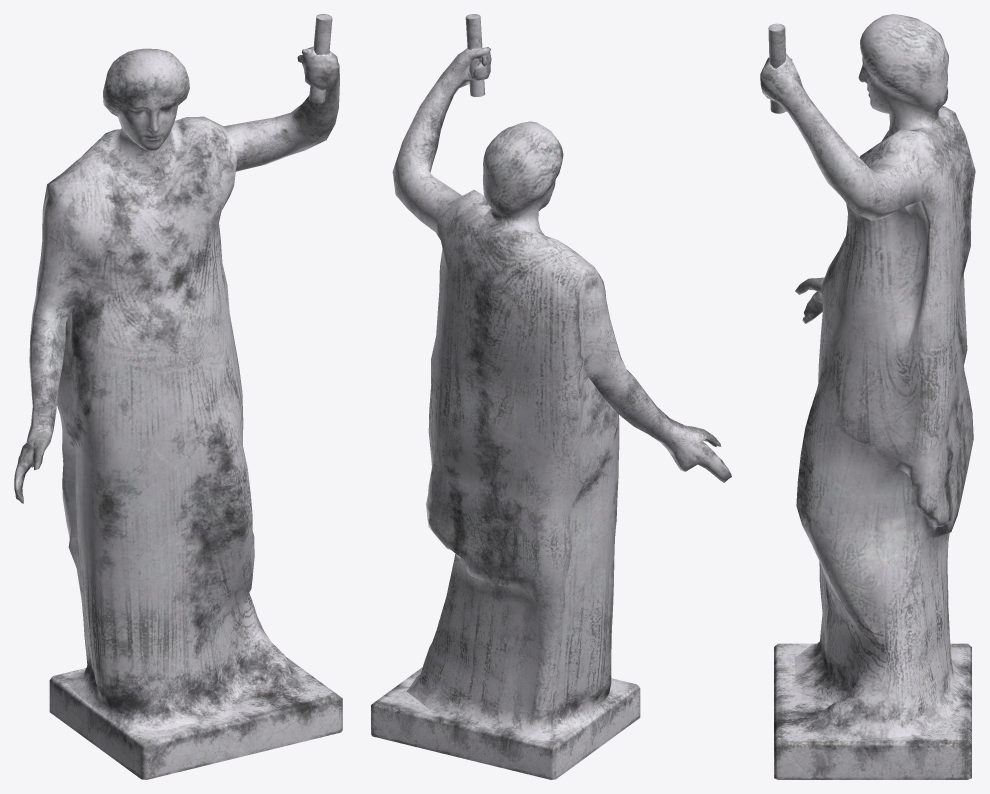
File: statue_of_demetra.glb
3 views of the same model, side by side, from view 1: azimuth 30°, elevation 25°; view 2: azimuth 150°, elevation 25°; view 3: azimuth 270°, elevation 25° (orthographic). The views are drawn at different scales.
Visible parts, largest first — view 1: Object_2; view 2: Object_2; view 3: Object_2.
Part boxes in pixels (<box>): Object_2: <box>14,14,342,779</box>; Object_2: <box>371,14,731,779</box>; Object_2: <box>760,14,975,779</box>.
Size of the model in its own units: 64.13 by 130 by 34.11.
1 material, 1 textured.
